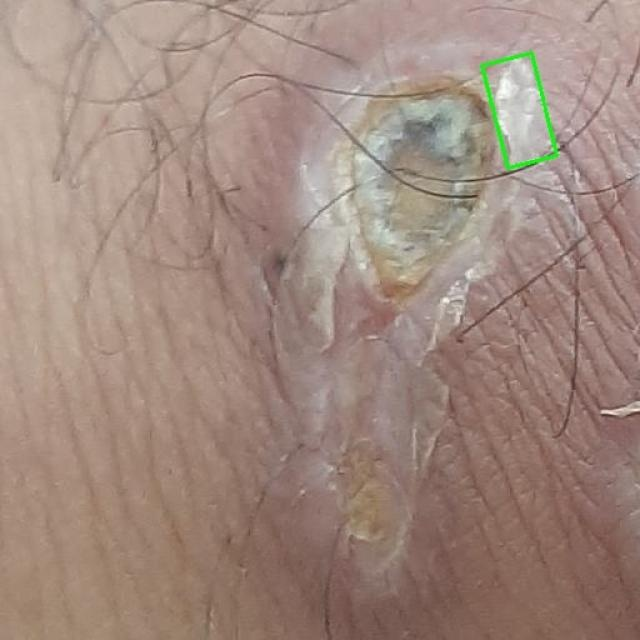Contact Dermatitis: (482, 53, 557, 168)
